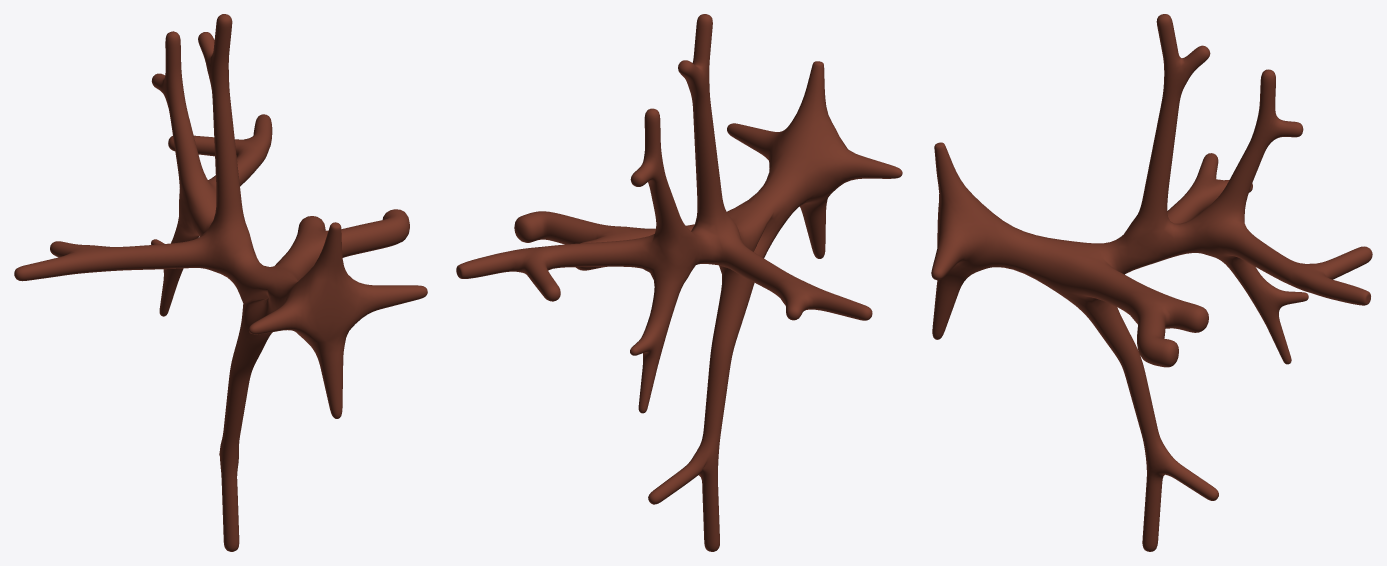
Rendered from trunk.fbx.
The picture shows the model from 3 angles, left to right: view 1: azimuth 30°, elevation 25°; view 2: azimuth 150°, elevation 25°; view 3: azimuth 270°, elevation 25°; orthographic projection. The views are drawn at different scales.
Parts seen in each view (by area): view 1: Trunk; view 2: Trunk; view 3: Trunk.
Boxes of the visible parts, box(x1,y1,x2,y2) form: Trunk: box(14, 14, 427, 551); Trunk: box(456, 14, 902, 551); Trunk: box(931, 14, 1372, 551).
Bounding box in the file's own units: 748 × 1024 × 764.
